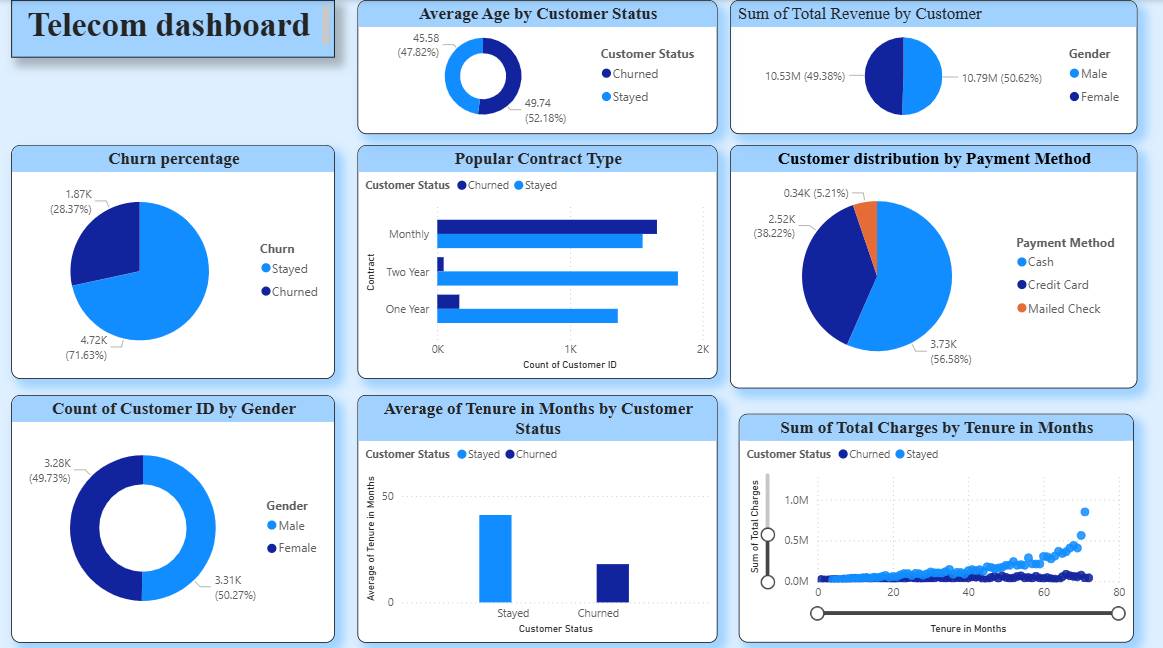

The dashboard page shown, as its layout file describes it:
{"tool":"powerbi","page":{"name":"Page 1","canvas":[1280,720],"ordinal":0},"visuals":[{"type":"pieChart","title":"Churn percentage","fields":{"Category":["Details.Customer Status"],"Y":["CountNonNull(Details.Customer ID)"]},"box":[12.3,159.2,355.4,256.6],"z":0},{"type":"barChart","fields":{"Category":["Details.Gender"],"Y":["CountNonNull(Details.Customer ID)"]},"box":[12.3,433.6,355.4,271.7],"z":1000},{"type":"clusteredColumnChart","title":"Average of Tenure in Months by Customer Status","fields":{"Y":["Avg(Details.Tenure in Months)"],"Category":["Details.Customer Status"],"Series":["Details.Customer Status"]},"box":[392.5,433.6,395.2,271.7],"z":2000},{"type":"clusteredBarChart","title":"Popular Contract Type","fields":{"Category":["Details.Contract"],"Y":["CountNonNull(Details.Customer ID)"],"Series":["Details.Customer Status"]},"box":[392.5,159.2,395.2,256.6],"z":3000},{"type":"pieChart","title":"Customer distribution by Payment Method","fields":{"Category":["Details.Payment Method"],"Y":["CountNonNull(Details.Customer ID)"]},"box":[801.4,159.2,447.3,267.6],"z":4000},{"type":"scatterChart","title":"Sum of Total Charges by Tenure in Months","fields":{"Y":["Sum(Details.Total Charges)"],"X":["Details.Tenure in Months"],"Series":["Details.Customer Status"]},"box":[811,454.2,433.6,251.1],"z":5000},{"type":"pieChart","title":"Sum of Total Revenue by Customer","fields":{"Category":["Details.Gender"],"Y":["Sum(Details.Total Revenue)"]},"box":[801.4,0,447.3,146.8],"z":6000},{"type":"textbox","box":[12.3,0,355.4,63.1],"z":6001},{"type":"clusteredBarChart","title":"Average Age by Customer Status","fields":{"Category":["Details.Customer Status"],"Y":["Avg(Details.Age)"]},"box":[392.5,0,395.2,146.8],"z":6004}]}

Visuals, with their boxes in screenshot pixels (x1, y1, x2, y2), scaled from the page's 1280x720 canvas onto the 1163x648 screenshot:
"Churn percentage" pieChart: 11 143 334 374
barChart - Details.Gender x CountNonNull(Details.Customer ID): 11 390 334 635
"Average of Tenure in Months by Customer Status" clusteredColumnChart: 357 390 716 635
"Popular Contract Type" clusteredBarChart: 357 143 716 374
"Customer distribution by Payment Method" pieChart: 728 143 1135 384
"Sum of Total Charges by Tenure in Months" scatterChart: 737 409 1131 635
"Sum of Total Revenue by Customer" pieChart: 728 0 1135 132
textbox: 11 0 334 57
"Average Age by Customer Status" clusteredBarChart: 357 0 716 132
